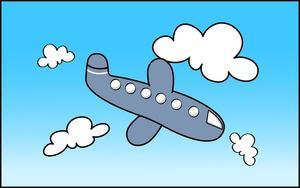aeroplane: (80, 50, 225, 148)
